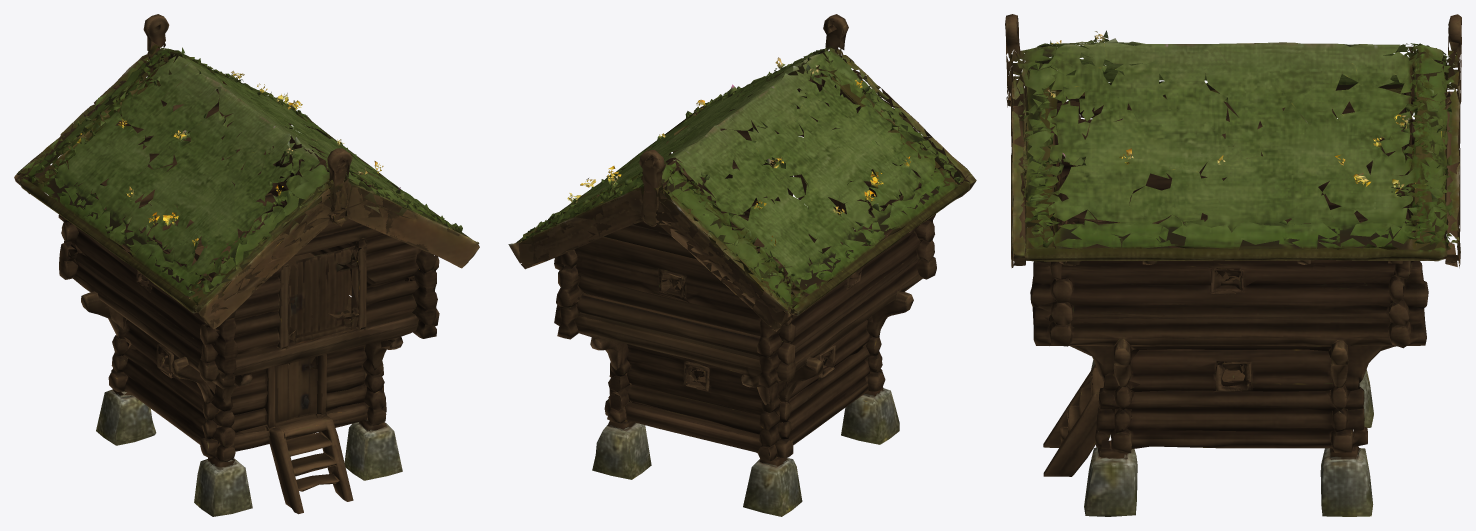
File: stabbur.glb
3 views of the same model, side by side, from view 1: azimuth 30°, elevation 25°; view 2: azimuth 150°, elevation 25°; view 3: azimuth 270°, elevation 25° (orthographic). The views are drawn at different scales.
Parts seen in each view (by area): view 1: geometry_0; view 2: geometry_0; view 3: geometry_0.
Boxes of the visible parts, <box> form: geometry_0: <box>14,14,479,516</box>; geometry_0: <box>508,14,976,516</box>; geometry_0: <box>1005,14,1461,516</box>.
Size of the model in its own units: 0.8031 by 0.9987 by 0.9293.
Materials: 1 (1 with a texture image).
